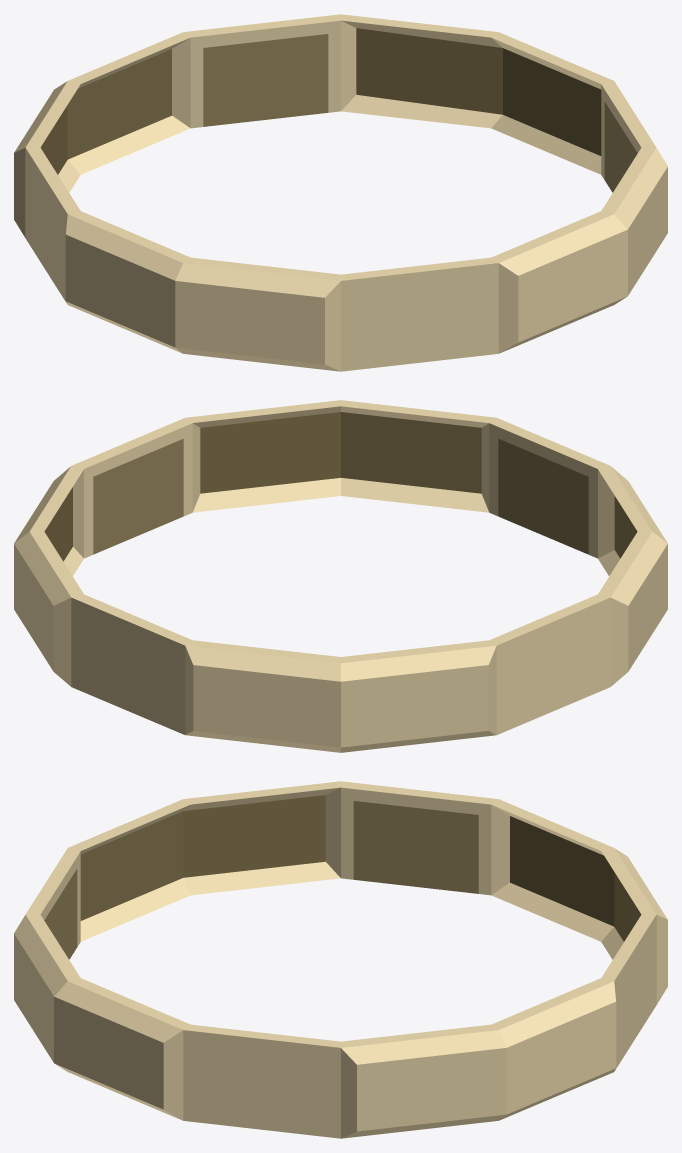
File: pantheon walls.fbx
The picture shows the model from 3 angles, top to bottom: view 1: azimuth 30°, elevation 25°; view 2: azimuth 150°, elevation 25°; view 3: azimuth 270°, elevation 25°; orthographic projection.
Parts seen in each view (by area): view 1: Circle; view 2: Circle; view 3: Circle.
Part boxes in pixels (bbox=[...]): Circle: bbox=[14, 14, 667, 371]; Circle: bbox=[14, 400, 667, 752]; Circle: bbox=[14, 781, 667, 1138].
Size of the model in its own units: 6529 by 1000 by 6529.
